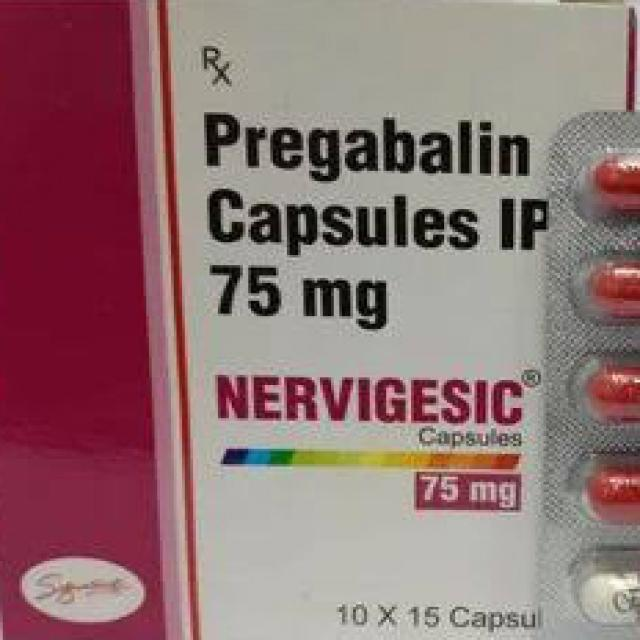drug-name: (209, 370, 522, 430)
